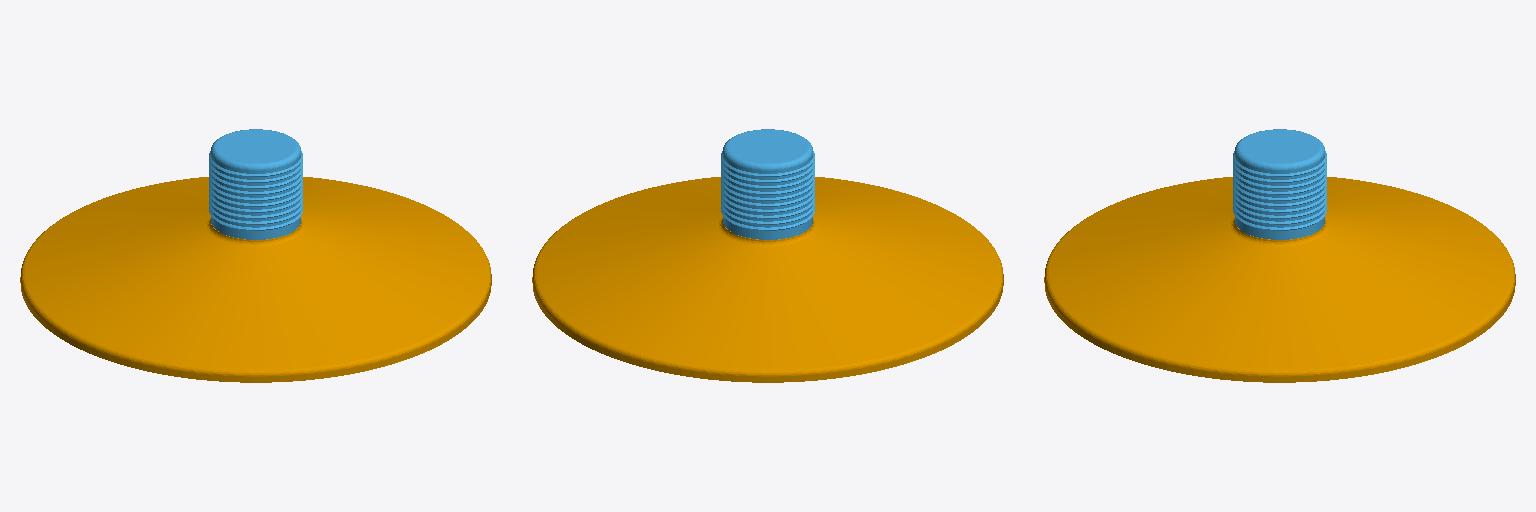
URDF robot description (Bucket_cap_v02):
<?xml version="1.0" ?>
<robot name="Bucket_cap_v02">

<material name="silver">
  <color rgba="0.700 0.700 0.700 1.000"/>
</material>

<material name="wood">
  <color rgba="0.631 0.4 0.184 1.000"/>
</material>

<link name="base_link">
  <inertial>
    <origin xyz="-1.3698582641782818e-17 -4.648239695837313e-19 0.011144660308718649" rpy="0 0 0"/>
    <mass value="7.577271680557124"/>
    <inertia ixx="0.023906641966828998" iyy="0.02390664196683623" izz="0.04679532380815405" ixy="4.194246553212651e-18" iyz="-1.9087611007673963e-21" ixz="5.833996942941701e-19"/>
  </inertial>
  <visual>
    <origin xyz="0 0 0" rpy="0 0 0"/>
    <geometry>
      <mesh filename="meshes/base_link.stl" scale="0.001 0.001 0.001"/>
    </geometry>
    <material name="silver"/>
    <material/>
  </visual>
  <collision>
    <origin xyz="0 0 0" rpy="0 0 0"/>
    <geometry>
      <mesh filename="meshes/base_link.stl" scale="0.001 0.001 0.001"/>
    </geometry>
     <contact>
      <soft_cfm value="0.0"/>
      <soft_erp value="0.2"/>
     </contact>
  </collision>
</link>

<link name="cap_11">
  <inertial>
    <origin xyz="1.4684715891794288e-18 -1.4470732507596378e-18 0.022554234445881158" rpy="0 0 0"/>
    <mass value="1.7056617097052832"/>
    <inertia ixx="0.00023029765918235624" iyy="0.0002302976591823597" izz="0.00022410336710397387" ixy="7.293566325015974e-21" iyz="-1.6704220770129663e-20" ixz="1.828649446112026e-20"/>
  </inertial>
  <visual>
    <origin xyz="-0.0 -0.0 -0.038" rpy="0 0 0"/>
    <geometry>
      <mesh filename="meshes/cap_11.stl" scale="0.001 0.001 0.001"/>
    </geometry>
    <material name="wood"/>
    <material/>
  </visual>
  <collision>
    <origin xyz="-0.0 -0.0 -0.038" rpy="0 0 0"/>
    <geometry>
      <mesh filename="meshes/cap_11.stl" scale="0.001 0.001 0.001"/>
    </geometry>
     <contact>
      <soft_cfm value="0.0"/>
      <soft_erp value="0.2"/>
  </contact>
  </collision>
</link>

<joint name="Rigid_1" type="fixed">
  <origin xyz="0.0 0.0 0.038" rpy="0 0 0"/>
  <parent link="base_link"/>
  <child link="cap_11"/>
</joint>

</robot>

--- What the picture shows (computed from the rendered views, not written in the file) ---
3 views of the same robot in one strip: view 1: azimuth 30°, elevation 25°; view 2: azimuth 150°, elevation 25°; view 3: azimuth 270°, elevation 25° (orthographic).
Robot: Bucket_cap_v02 — 2 links, 1 joints (1 fixed); root link base_link; default pose: all joints at 0.
Visible links, largest first — view 1: base_link, cap_11; view 2: base_link, cap_11; view 3: base_link, cap_11.
Boxes of the visible links, <box> form: base_link: <box>20,177,491,382</box>; cap_11: <box>209,129,302,239</box>; base_link: <box>532,177,1003,382</box>; cap_11: <box>721,129,814,239</box>; base_link: <box>1044,177,1515,382</box>; cap_11: <box>1233,129,1326,239</box>.
Size in the robot's own frame: 0.26 by 0.2599 by 0.0832 metres.
Meshes: 2 distinct files referenced, 2 mesh visuals loaded (2 binary STL).